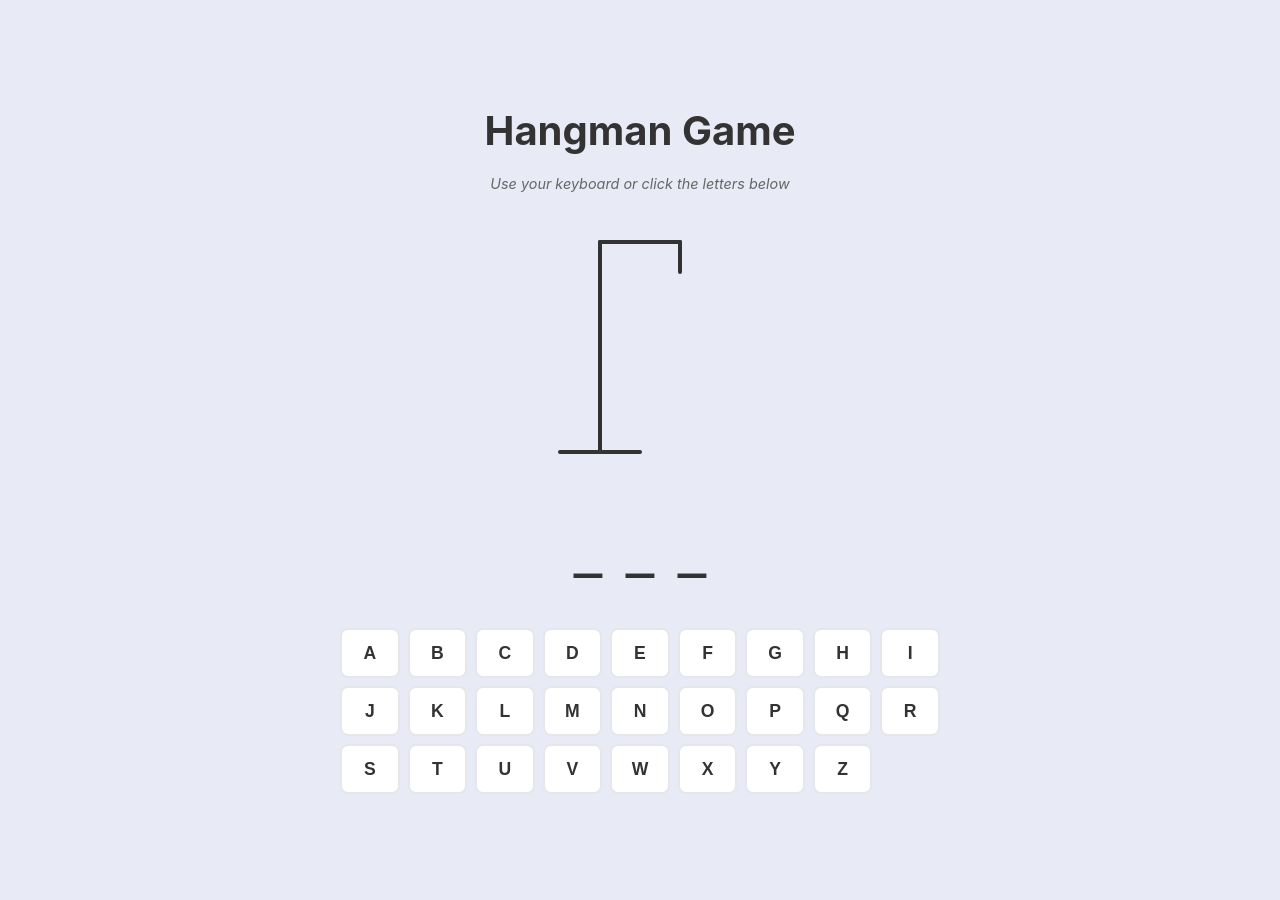
Scenario: Hangman Game Integration › should reset game when play again is clicked
Win the game quickly
Click the button named "Letter C" at (505, 653), box [475, 628, 535, 678]
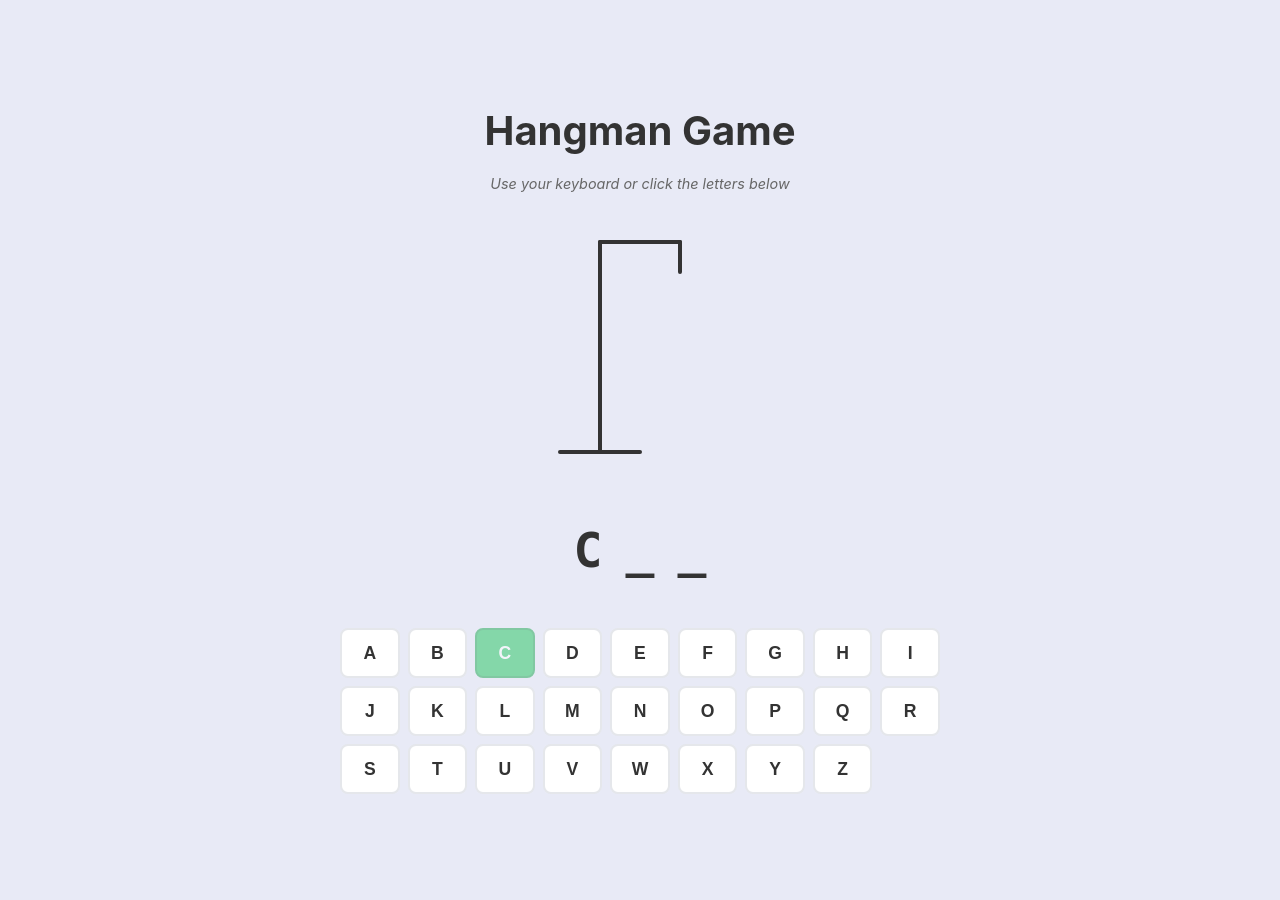
Click the button named "Letter A" at (370, 653), box [340, 628, 400, 678]
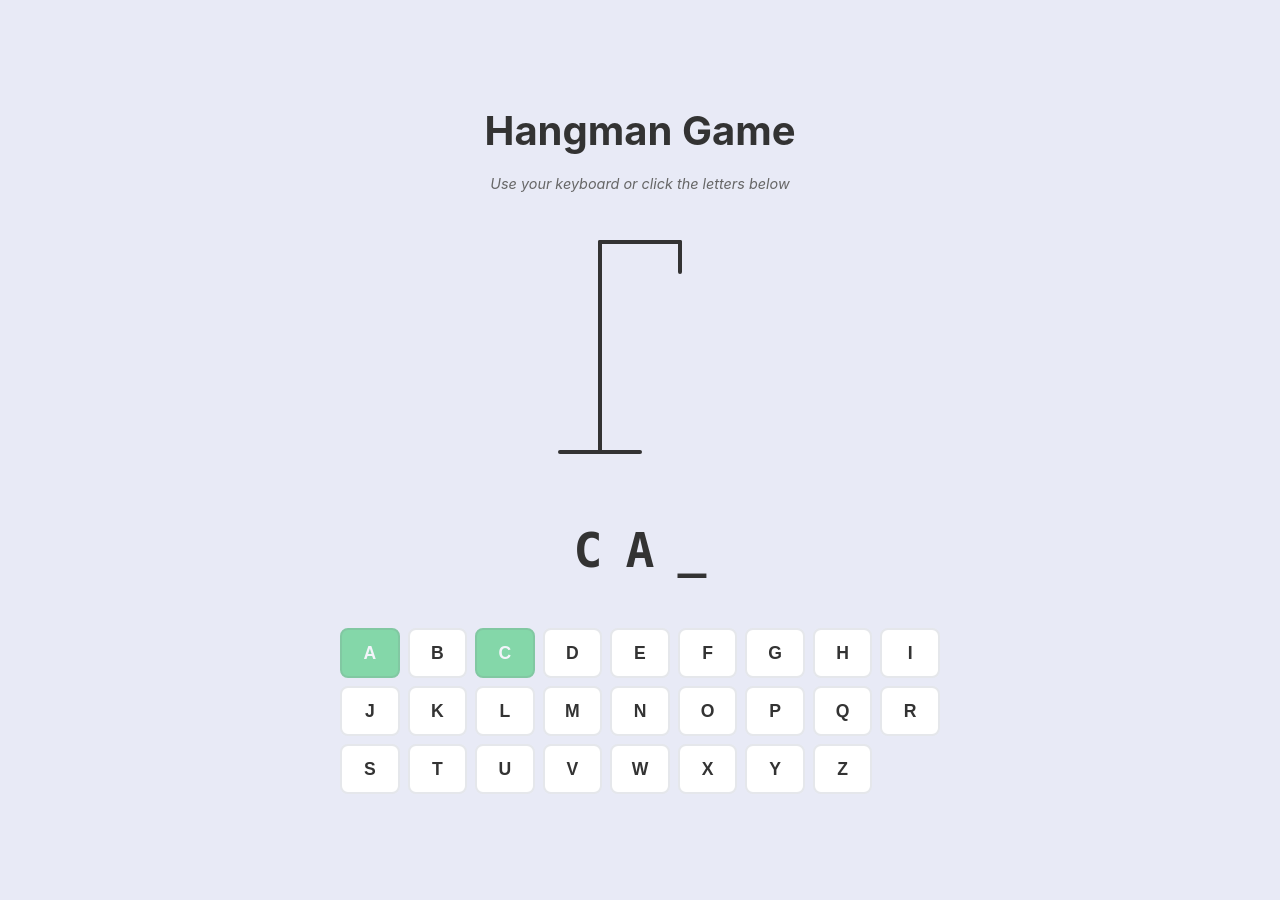
Click the button named "Letter T" at (437, 769), box [408, 744, 467, 794]
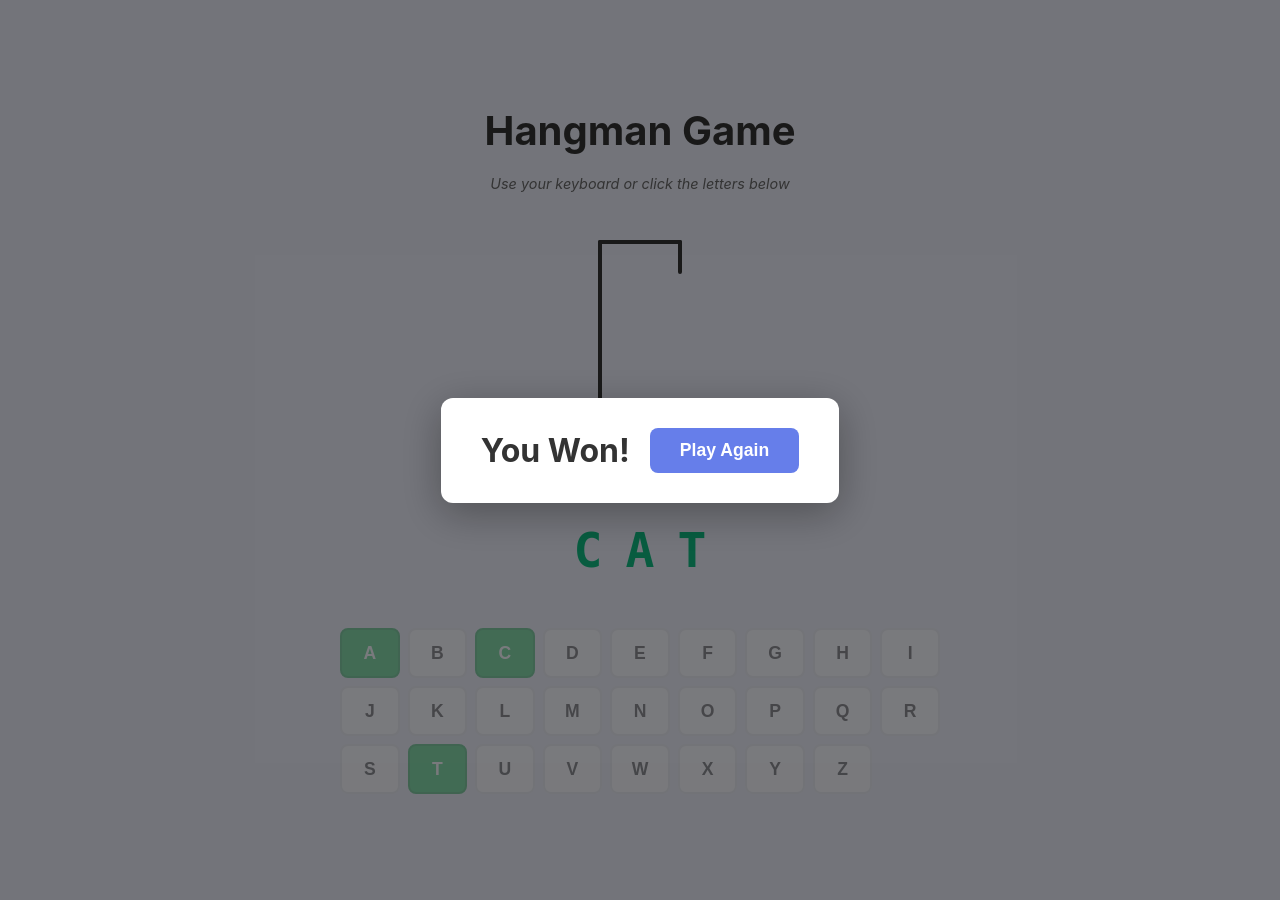
Expected: the heading "You Won!" is shown, [481, 430, 630, 470]
Click reset
Click the button with aria-label "start a new game" at (724, 450), box [650, 428, 799, 472]
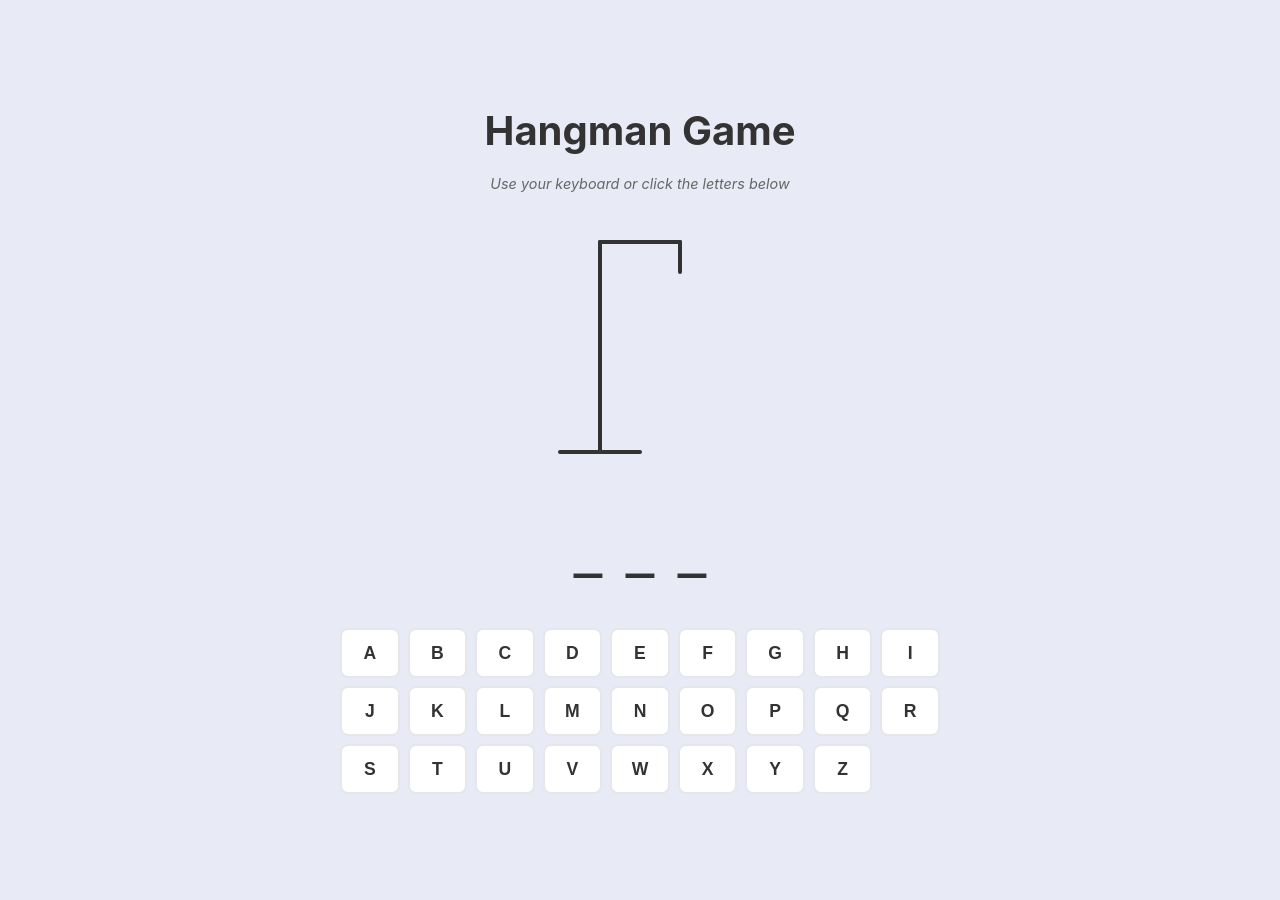
Expected: the heading "You Won" is gone
